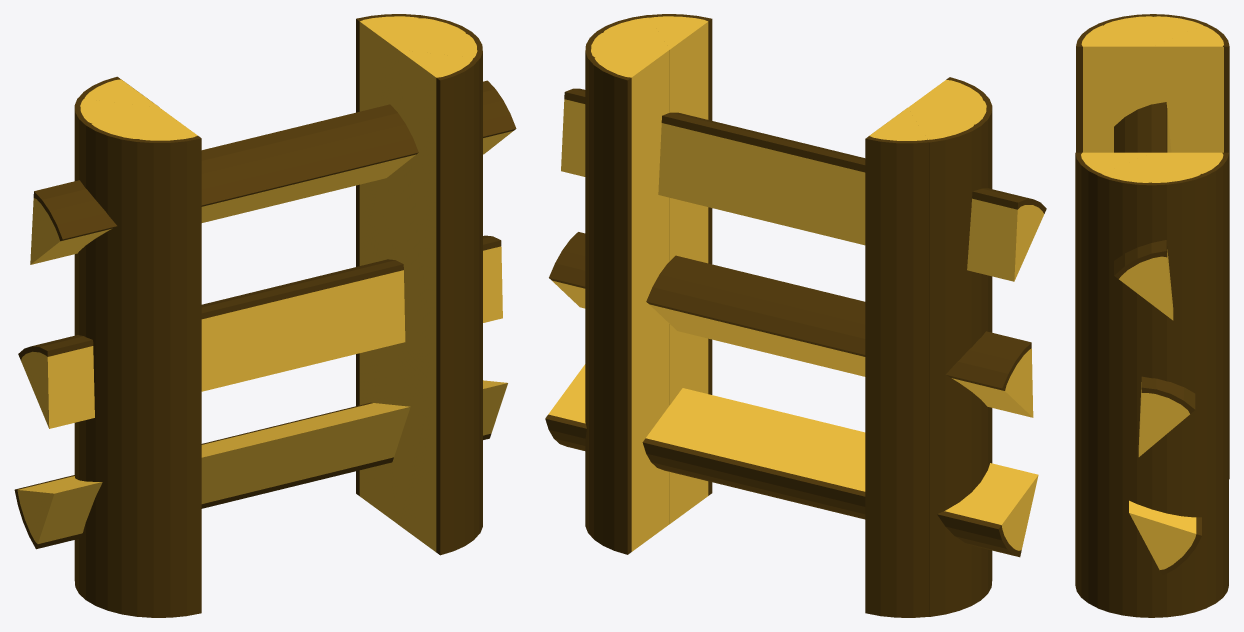
File: Fence01 (fixed).fbx
The picture shows the model from 3 angles, left to right: view 1: azimuth 30°, elevation 25°; view 2: azimuth 150°, elevation 25°; view 3: azimuth 270°, elevation 25°; orthographic projection. The views are drawn at different scales.
Parts seen in each view (by area): view 1: Cylinder.002; view 2: Cylinder.002; view 3: Cylinder.002.
Boxes of the visible parts, box(x1,y1,x2,y2) form: Cylinder.002: box(14, 14, 516, 617); Cylinder.002: box(545, 14, 1046, 617); Cylinder.002: box(1075, 14, 1229, 617).
Bounding box in the file's own units: 618 × 618 × 200.
